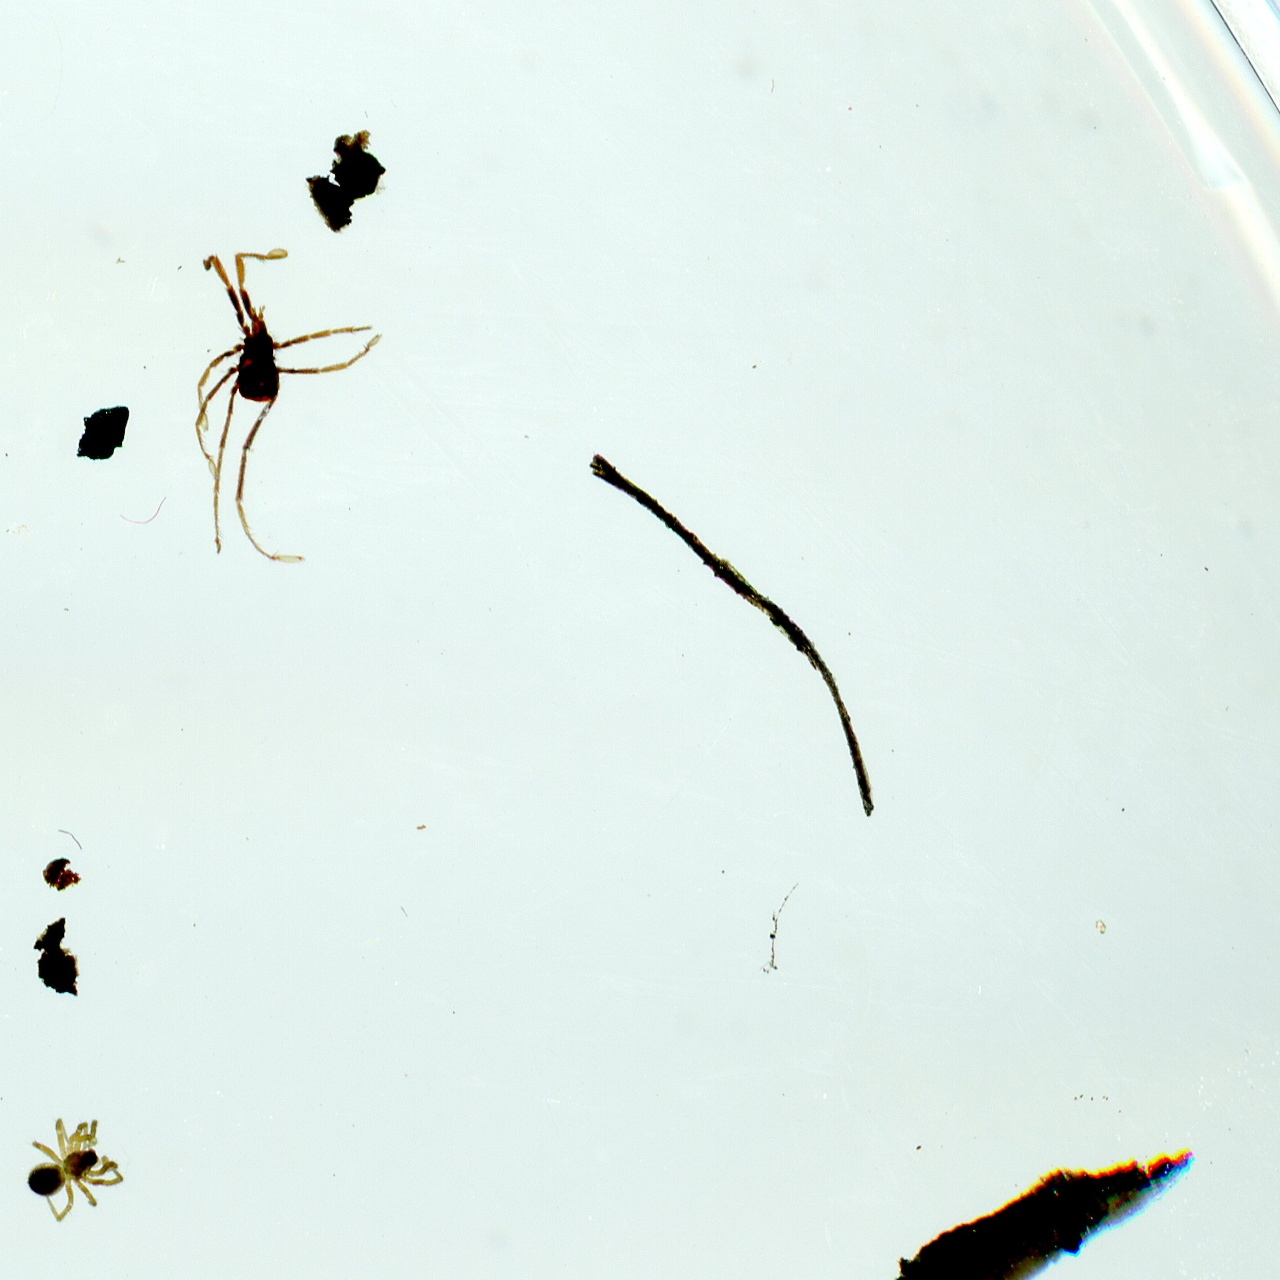arthropod: (186, 234, 401, 571), (18, 1108, 134, 1228)
